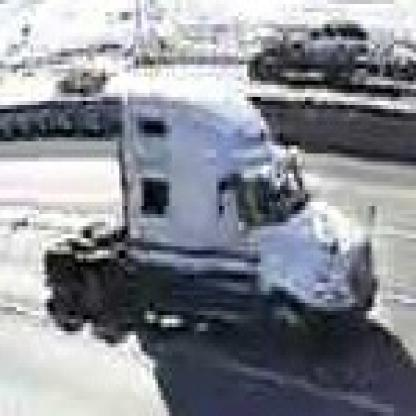container: (37, 86, 384, 344)
